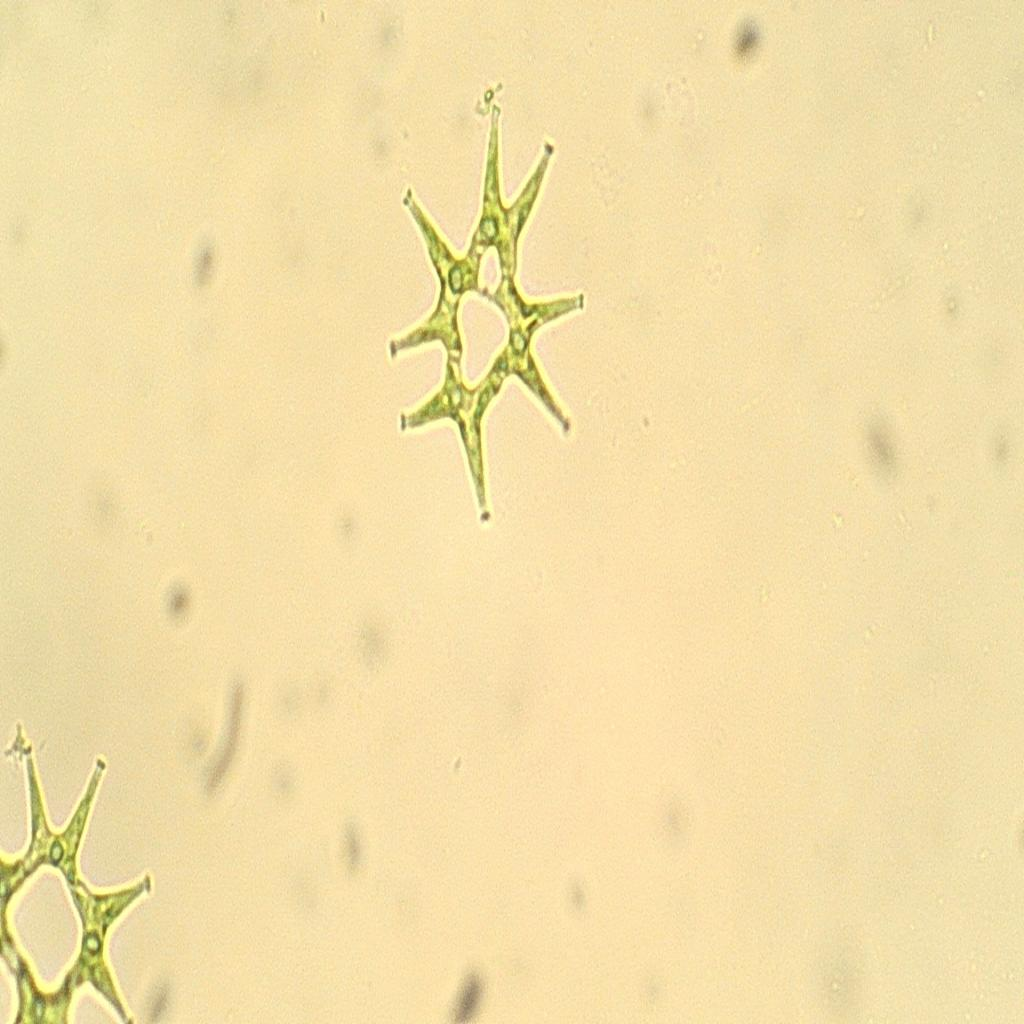Pediastrum_CF: (383, 92, 593, 530)
